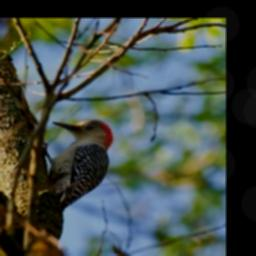Woodpecker: (34, 114, 130, 219)
